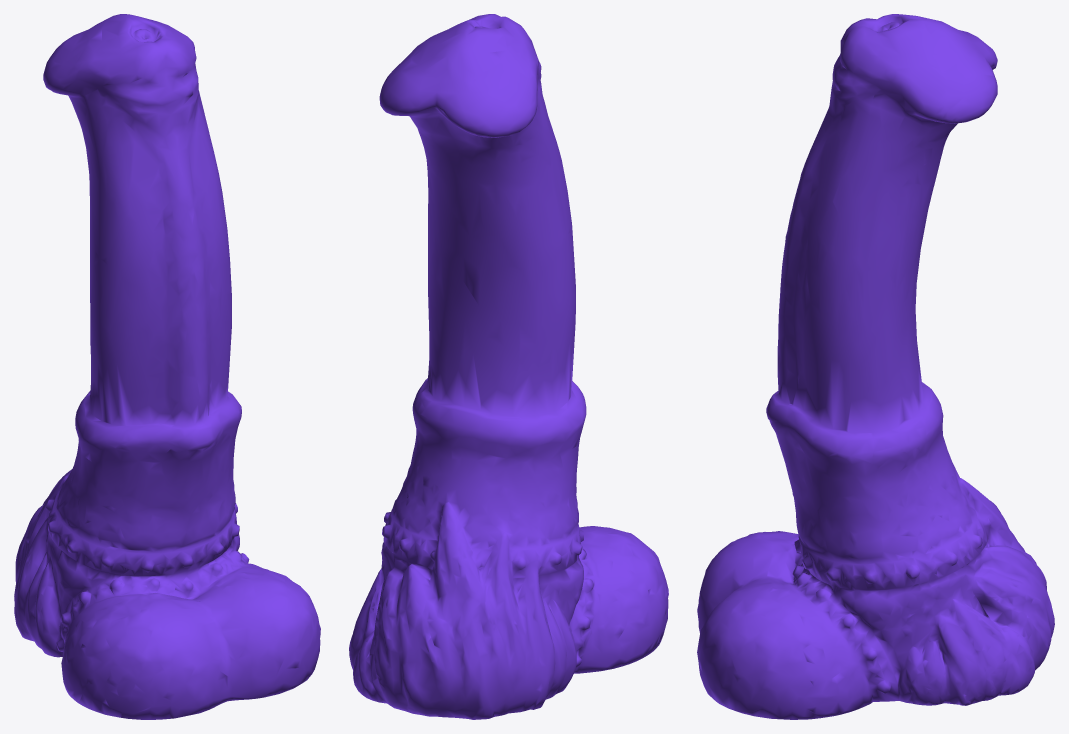
File: large-flat-ar.glb
3 renders of one model, left to right at view 1: azimuth 30°, elevation 25°; view 2: azimuth 150°, elevation 25°; view 3: azimuth 270°, elevation 25°, orthographic. The views are drawn at different scales.
Bounding box in the file's own units: 0.1477 × 0.3706 × 0.1866.
